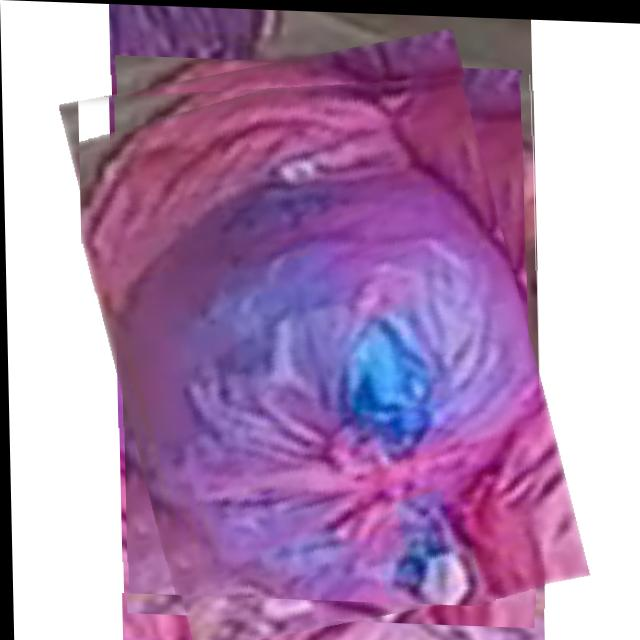other_trashbag: (81, 80, 537, 602)
